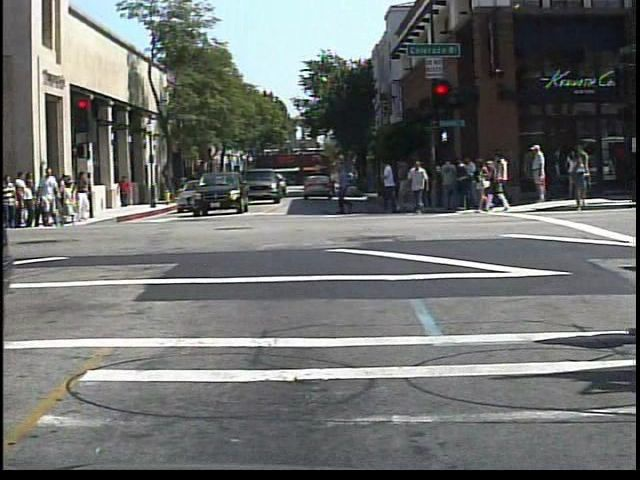person: (525, 145, 553, 207), (39, 167, 62, 228), (0, 169, 21, 224), (116, 172, 134, 210)
